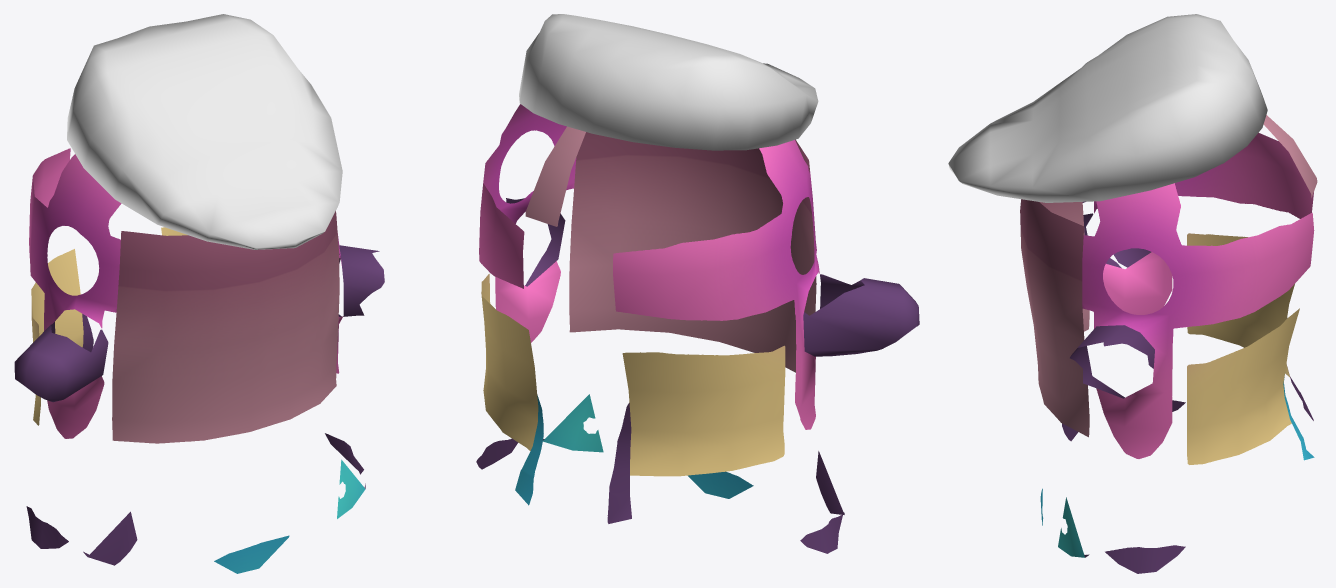
File: MOD_Opa_V1.fbx
The picture shows the model from 3 angles, left to right: view 1: azimuth 30°, elevation 25°; view 2: azimuth 150°, elevation 25°; view 3: azimuth 270°, elevation 25°; orthographic projection. The views are drawn at different scales.
Parts seen in each view (by area): view 1: Sphere, Cylinder.006; view 2: Sphere, Cylinder.006; view 3: Sphere, Cylinder.006.
Boxes of the visible parts, x1,y1,x2,y2 form: Sphere: [14, 148, 384, 573]; Cylinder.006: [67, 14, 342, 249]; Sphere: [476, 104, 919, 553]; Cylinder.006: [519, 14, 818, 150]; Sphere: [1020, 115, 1317, 573]; Cylinder.006: [948, 14, 1267, 202].
Bounding box in the file's own units: 264 × 290 × 207.
